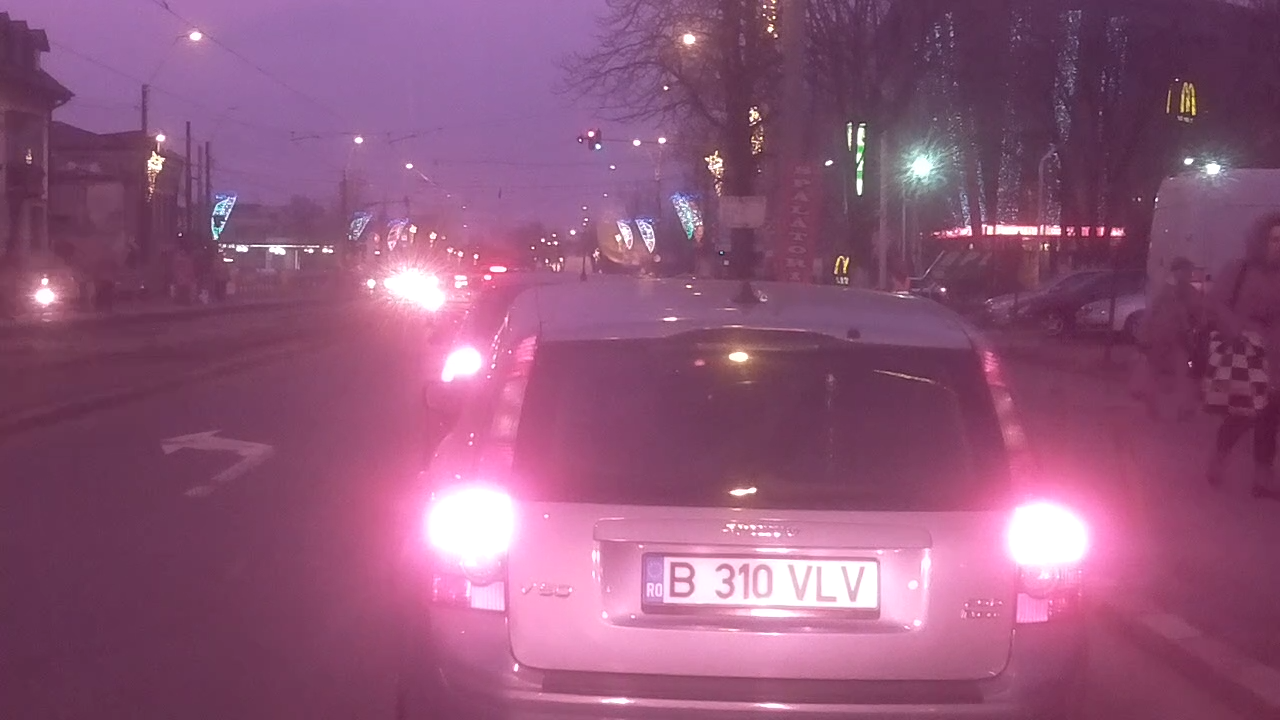license-plate: (632, 547, 891, 623)
